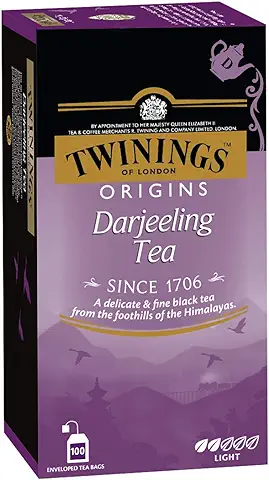Tea: (1, 5, 269, 480)
